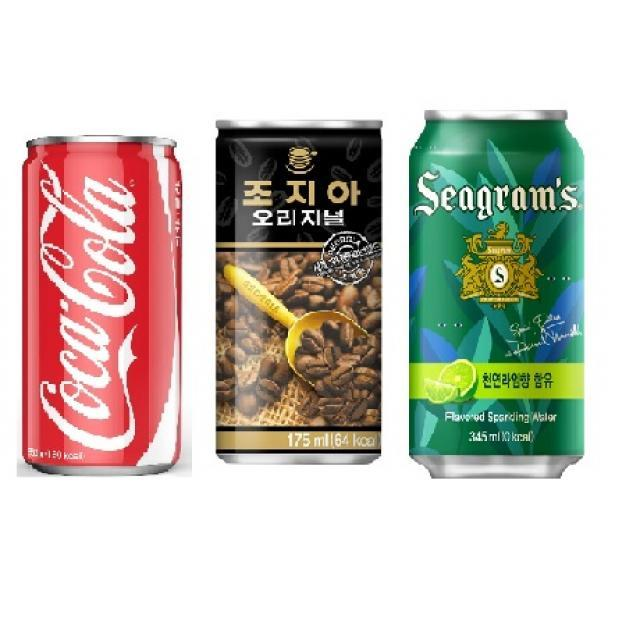coca-cola: (18, 130, 188, 478)
